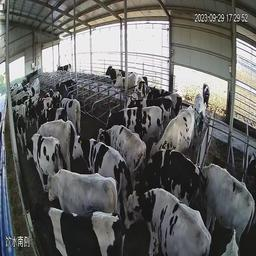cow: (29, 191, 123, 255), (193, 160, 254, 246), (126, 199, 217, 256), (119, 149, 195, 203), (55, 132, 121, 186), (39, 167, 114, 213), (145, 82, 195, 150), (91, 112, 146, 168), (107, 98, 162, 136), (15, 131, 54, 184), (33, 110, 64, 150), (57, 92, 83, 133), (6, 107, 26, 139), (103, 53, 122, 83), (130, 72, 153, 96), (25, 91, 47, 113), (200, 82, 213, 119), (9, 76, 30, 95), (48, 81, 66, 101), (55, 59, 72, 78), (9, 92, 25, 109)
